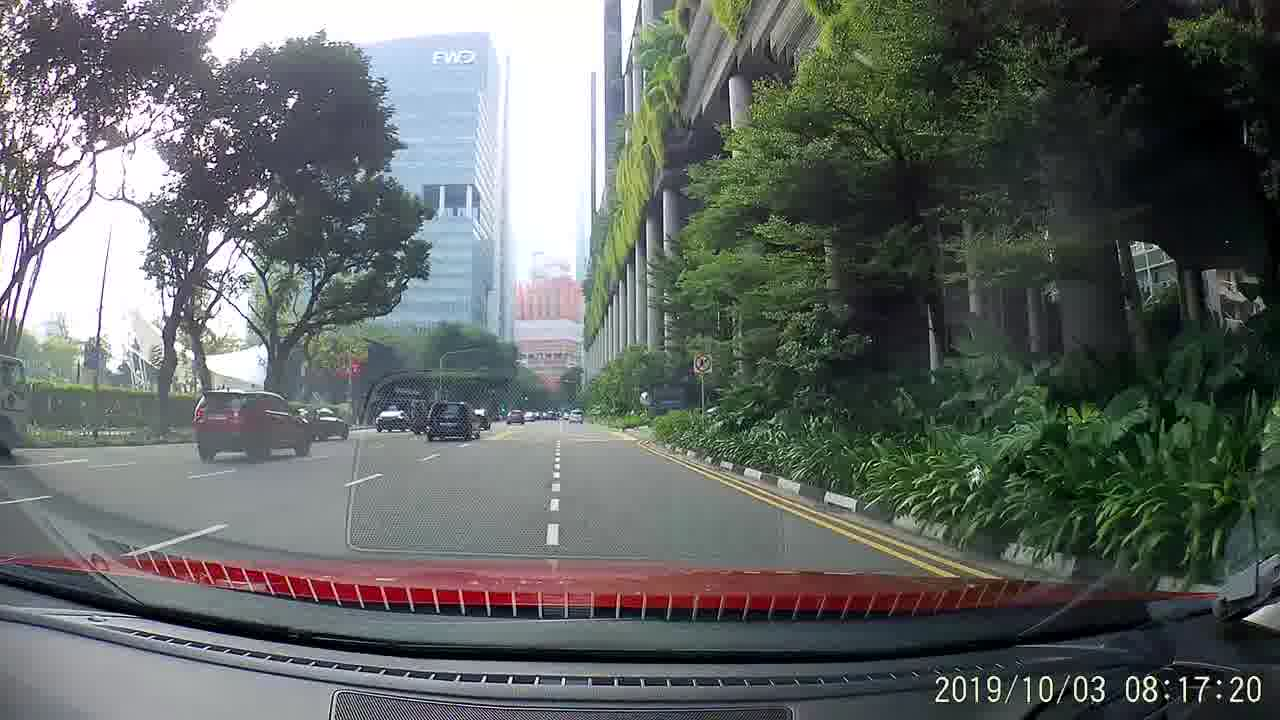car: (191, 388, 314, 461), (423, 394, 484, 445), (292, 405, 353, 442), (371, 404, 412, 433), (502, 409, 524, 426), (567, 408, 585, 426)
